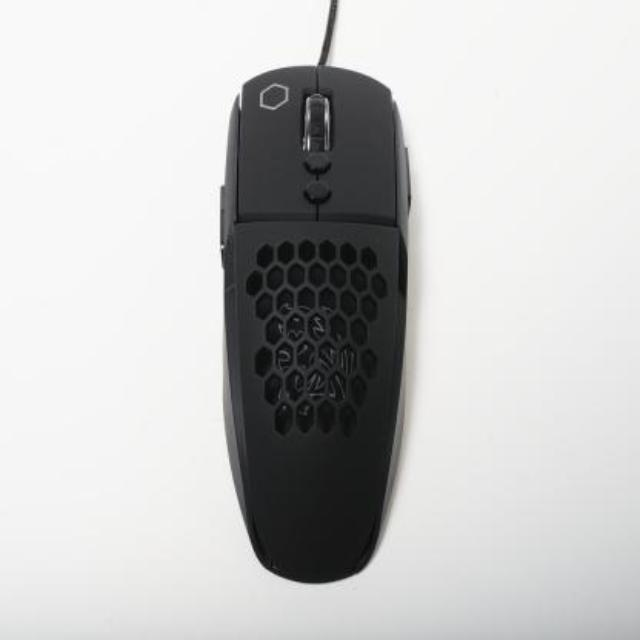Computer-Mouse: (192, 31, 468, 606)
